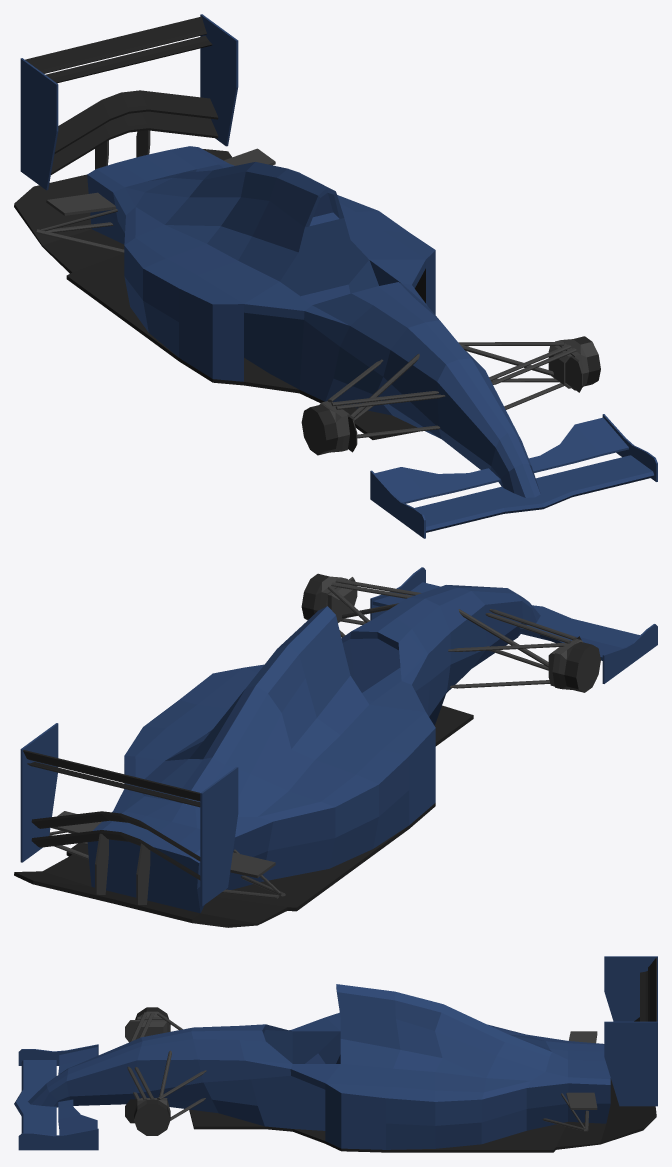
Rendered from sndcar-f1-chassis.glb.
3 views of the same model, one above another, from view 1: azimuth 30°, elevation 25°; view 2: azimuth 150°, elevation 25°; view 3: azimuth 270°, elevation 25° (orthographic). The views are drawn at different scales.
Parts seen in each view (by area): view 1: Body_1, Rear Wing_3, Front Wing_0, Suspension Front_2, Suspension Rear_4, Steering FR_13, Steering FL_9; view 2: Body_1, Rear Wing_3, Front Wing_0, Suspension Front_2, Steering FR_13, Suspension Rear_4, Steering FL_9; view 3: Body_1, Rear Wing_3, Front Wing_0, Steering FL_9, Suspension Front_2, Suspension Rear_4, Steering FR_13.
Part boxes in pixels (bbox=[...]): Body_1: bbox=[14, 146, 540, 497]; Rear Wing_3: bbox=[20, 14, 238, 190]; Front Wing_0: bbox=[370, 414, 657, 538]; Suspension Front_2: bbox=[327, 342, 576, 438]; Suspension Rear_4: bbox=[36, 148, 275, 253]; Steering FR_13: bbox=[301, 401, 357, 455]; Steering FL_9: bbox=[548, 336, 600, 392]; Body_1: bbox=[14, 585, 540, 927]; Rear Wing_3: bbox=[20, 723, 238, 906]; Front Wing_0: bbox=[370, 567, 657, 683]; Suspension Front_2: bbox=[327, 578, 576, 688]; Steering FR_13: bbox=[548, 636, 600, 692]; Suspension Rear_4: bbox=[49, 811, 285, 898]; Steering FL_9: bbox=[301, 573, 357, 622]; Body_1: bbox=[28, 984, 656, 1152]; Rear Wing_3: bbox=[604, 956, 657, 1106]; Front Wing_0: bbox=[14, 1044, 98, 1150]; Steering FL_9: bbox=[125, 1098, 170, 1135]; Suspension Front_2: bbox=[127, 1012, 206, 1120]; Suspension Rear_4: bbox=[542, 1031, 597, 1131]; Steering FR_13: bbox=[125, 1007, 170, 1042].
Size of the model in its own units: 4.21 by 2.5 by 11.48.
